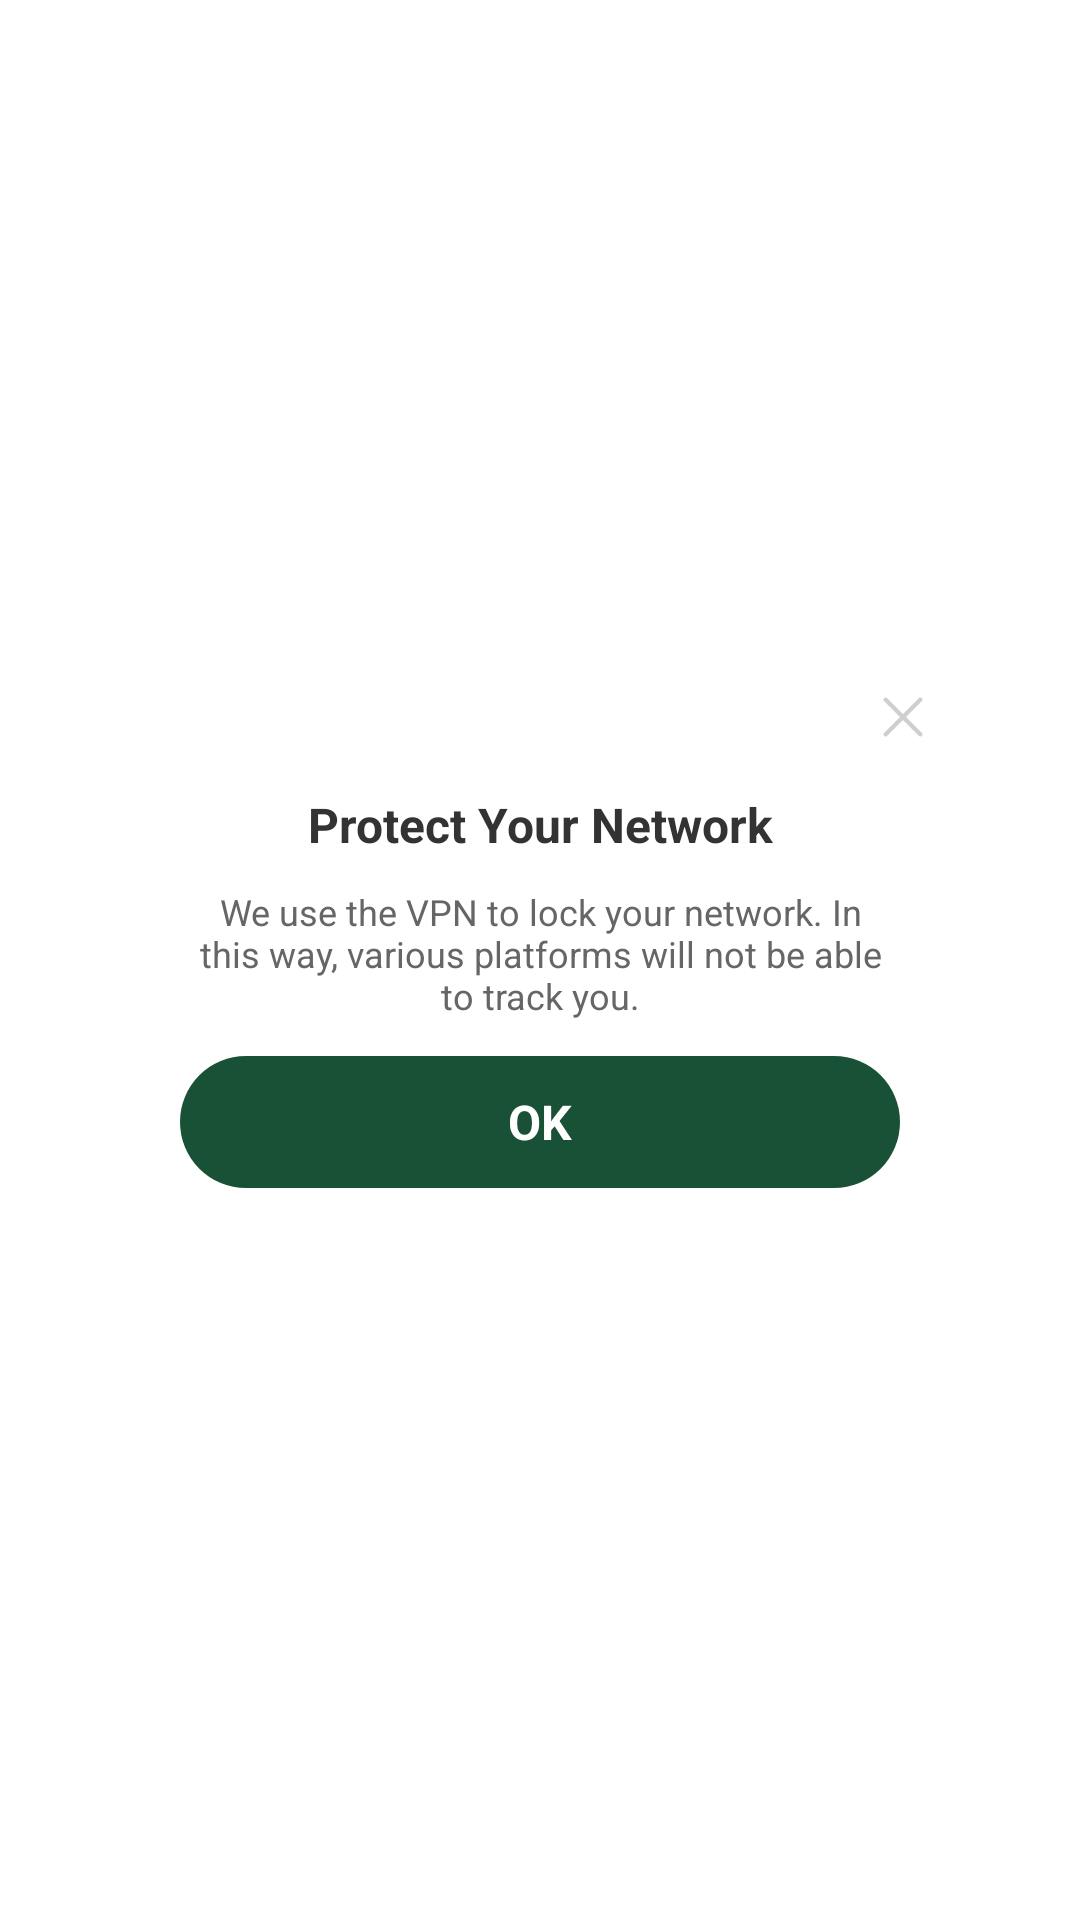

Where to tap for icons on this 1080x1920 app screen, as point (x, y):
cancel: point (903, 717)
